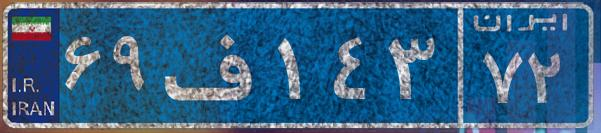1: (273, 28, 330, 110)
2: (525, 38, 570, 115)
3: (385, 28, 445, 110)
4: (330, 28, 385, 110)
6: (57, 26, 110, 107)
7: (475, 38, 525, 113)
9: (110, 28, 158, 105)
ف: (158, 15, 273, 115)
